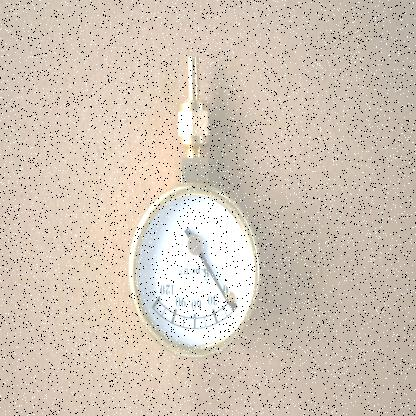needle: (198, 251, 231, 306)
